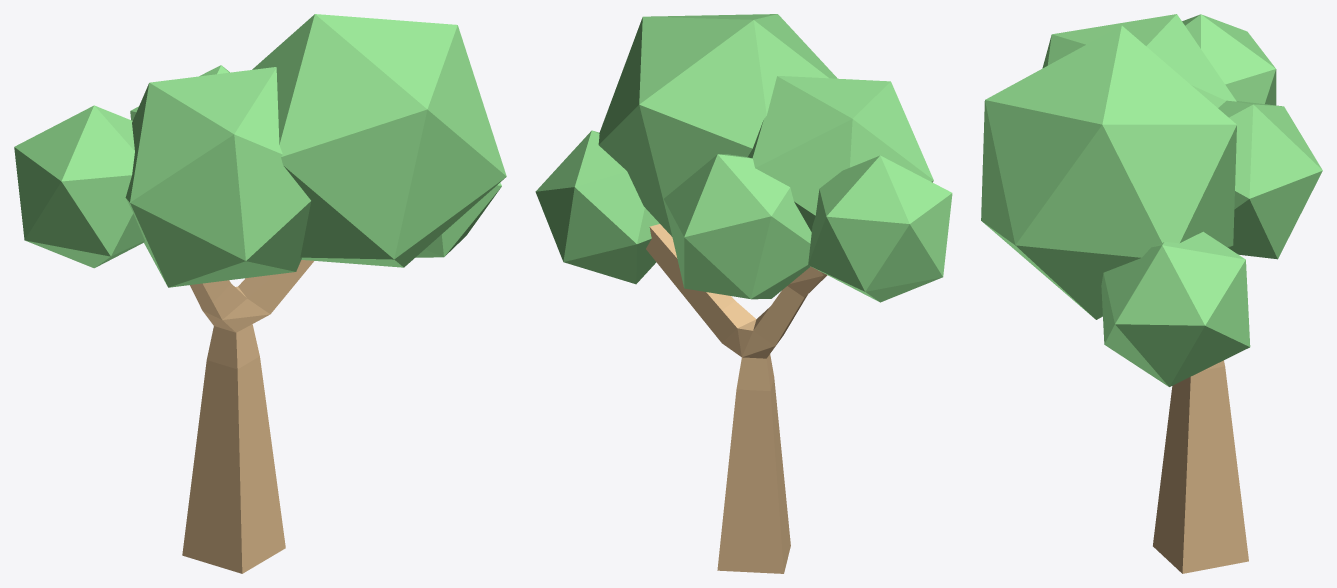
File: tree2.fbx
3 views of the same model, side by side, from view 1: azimuth 30°, elevation 25°; view 2: azimuth 150°, elevation 25°; view 3: azimuth 270°, elevation 25° (orthographic). The views are drawn at different scales.
Parts seen in each view (by area): view 1: Icosphere.002, Icosphere.001, Cube, Icosphere, Icosphere.003; view 2: Icosphere.002, Cube, Icosphere.004, Icosphere, Icosphere.001, Icosphere.003; view 3: Icosphere.002, Icosphere.003, Cube, Icosphere.004, Icosphere.001, Icosphere.
Part boxes in pixels (box(x1,y1,x2,y2)): Icosphere.002: box(252, 14, 506, 267); Icosphere.001: box(125, 67, 311, 287); Cube: box(182, 260, 313, 573); Icosphere: box(14, 105, 144, 268); Icosphere.003: box(416, 183, 501, 257); Icosphere.002: box(598, 14, 837, 236); Cube: box(646, 224, 827, 573); Icosphere.004: box(663, 154, 811, 299); Icosphere: box(808, 155, 952, 302); Icosphere.001: box(748, 76, 933, 231); Icosphere.003: box(535, 130, 659, 284); Icosphere.002: box(981, 25, 1236, 319); Icosphere.003: box(1101, 231, 1250, 386); Cube: box(1153, 360, 1248, 573); Icosphere.004: box(1218, 100, 1322, 259); Icosphere.001: box(1042, 14, 1236, 107); Icosphere: box(1182, 14, 1276, 105).
Bounding box in the file's own units: 577 × 684 × 387.
